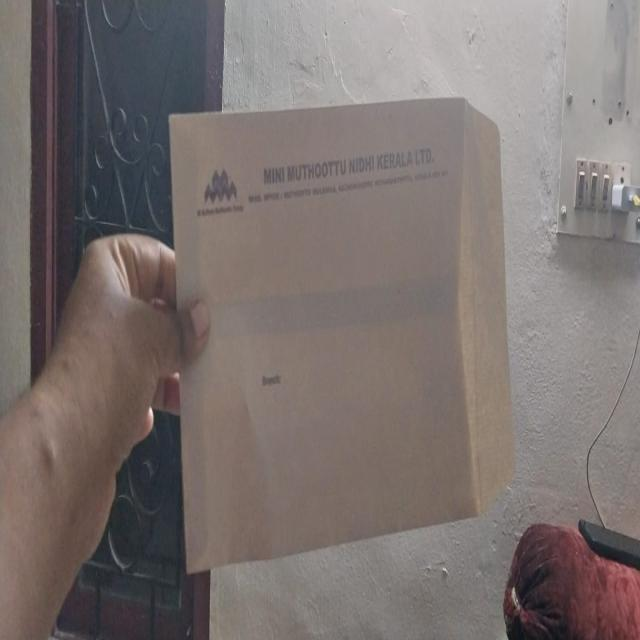Paper - Recyclable: (167, 94, 516, 575)
